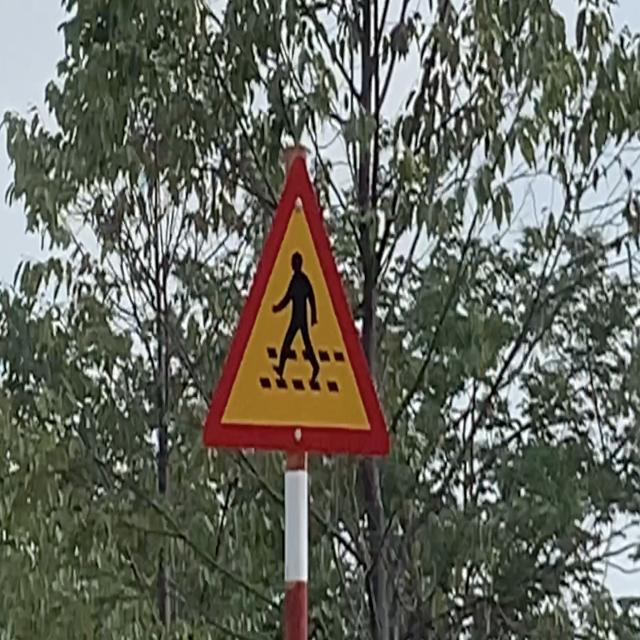Nguoi di bo cat ngang: (190, 132, 397, 477)
